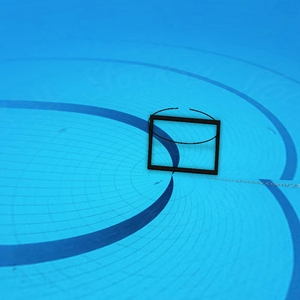circle: (143, 104, 224, 180)
